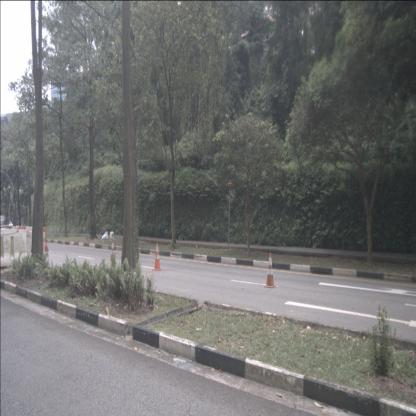movable_object-barrier: (0, 228, 28, 268), (25, 230, 46, 262)
movable_object-trafficcone: (264, 252, 276, 288), (152, 242, 162, 271), (108, 240, 117, 264)
vehicle-truck: (0, 215, 12, 230)
